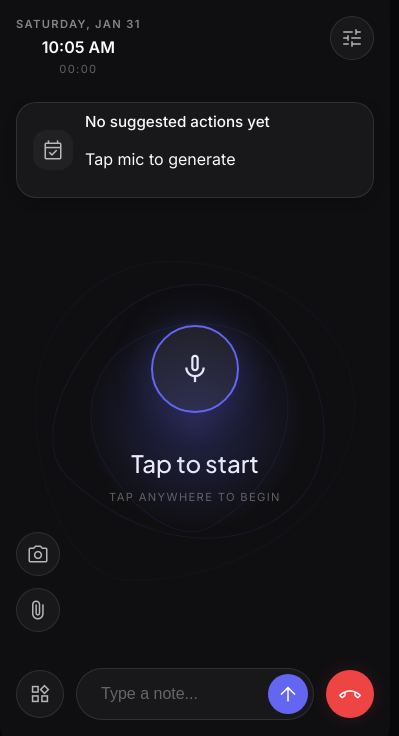
Scenario: Chat header date/time and session timer › increments timer while recording and resets when stopped
Expected: the text "00:00" is shown, 59,61 -> 98,78
Step 1. Click the button named "Microphone" → (195, 369), box 151,325 -> 239,413
Wait 3000 ms
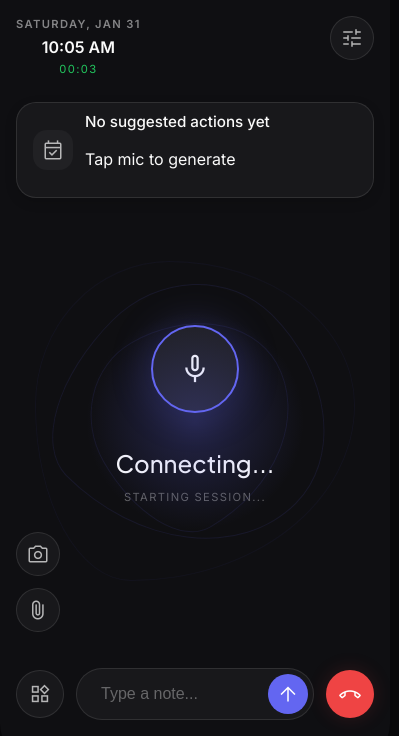
Result: the text "00:03" is shown at 59,61 -> 97,78
Step 2. Click the button named "Microphone" → (195, 369), box 151,325 -> 239,413
Wait 2000 ms
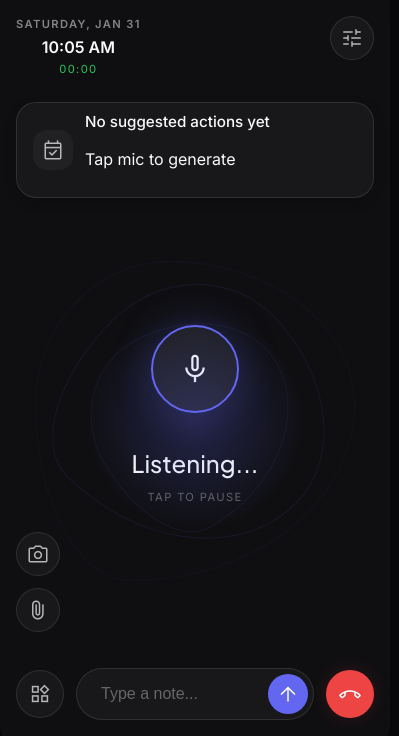
Result: the text "00:00" is shown at 59,61 -> 98,78
